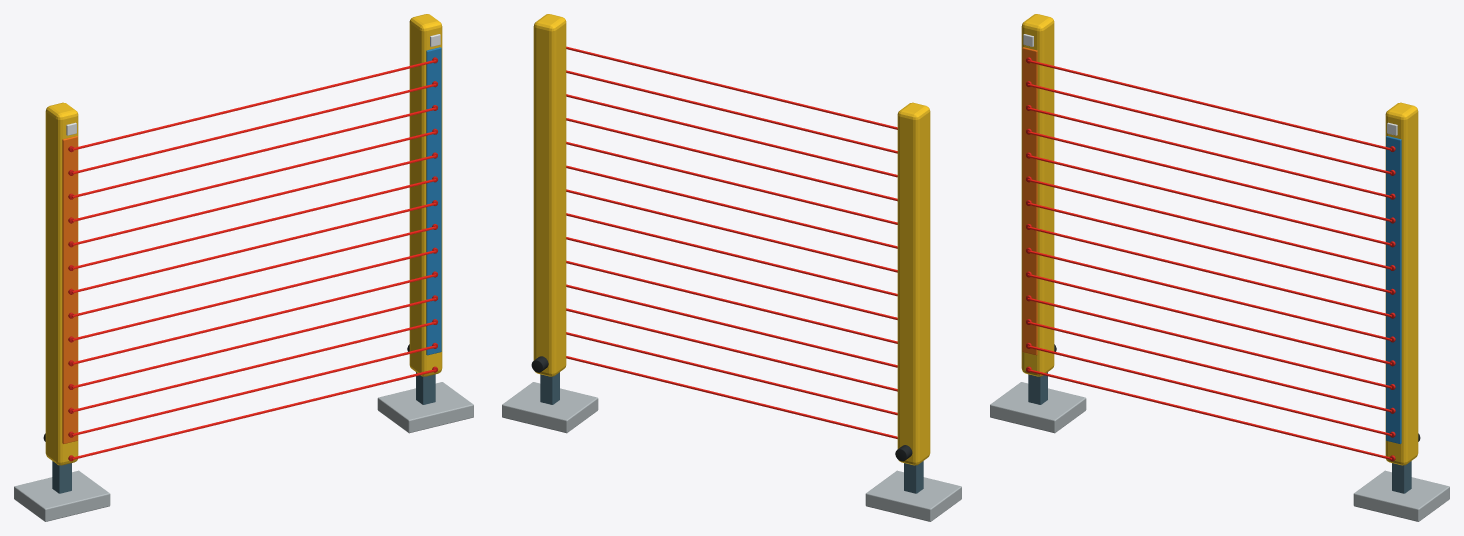
Rendered from safety_light_curtain_pair.glb.
The picture shows the model from 3 angles, left to right: view 1: azimuth 30°, elevation 25°; view 2: azimuth 150°, elevation 25°; view 3: azimuth 330°, elevation 25°; orthographic projection.
Visible parts, largest first — view 1: LIGHT_CURTAIN_TX, LIGHT_CURTAIN_RX, OPTIC_WINDOW_TX, OPTIC_WINDOW_RX, FOOT_RX, FOOT_TX, BEAM_3, BEAM_8, BEAM_12, BEAM_13, BEAM_0, BEAM_4 (+10 smaller); view 2: LIGHT_CURTAIN_RX, LIGHT_CURTAIN_TX, FOOT_RX, FOOT_TX, BEAM_4, BEAM_10, BEAM_11, BEAM_2, BEAM_5, BEAM_6, BEAM_7, BEAM_9 (+8 smaller); view 3: LIGHT_CURTAIN_RX, LIGHT_CURTAIN_TX, OPTIC_WINDOW_RX, OPTIC_WINDOW_TX, FOOT_TX, FOOT_RX, BEAM_3, BEAM_8, BEAM_12, BEAM_13, BEAM_0, BEAM_4 (+10 smaller).
Part boxes in pixels (box(x1,y1,x2,y2)): LIGHT_CURTAIN_TX: box(45, 102, 78, 465); LIGHT_CURTAIN_RX: box(409, 14, 442, 376); OPTIC_WINDOW_TX: box(62, 136, 77, 443); OPTIC_WINDOW_RX: box(426, 47, 441, 355); FOOT_RX: box(377, 382, 473, 433); FOOT_TX: box(14, 470, 110, 521); BEAM_3: box(72, 298, 436, 388); BEAM_8: box(72, 179, 436, 269); BEAM_12: box(72, 84, 436, 174); BEAM_13: box(72, 60, 436, 150); BEAM_0: box(72, 369, 436, 459); BEAM_4: box(72, 274, 436, 364); LIGHT_CURTAIN_RX: box(533, 14, 566, 376); LIGHT_CURTAIN_TX: box(897, 102, 930, 465); FOOT_RX: box(502, 382, 598, 433); FOOT_TX: box(865, 470, 961, 521); BEAM_4: box(566, 260, 897, 343); BEAM_10: box(566, 118, 897, 201); BEAM_11: box(566, 94, 897, 177); BEAM_2: box(566, 308, 897, 391); BEAM_5: box(566, 237, 897, 319); BEAM_6: box(566, 213, 897, 296); BEAM_7: box(566, 189, 897, 272); BEAM_9: box(566, 141, 897, 224); LIGHT_CURTAIN_RX: box(1385, 102, 1418, 465); LIGHT_CURTAIN_TX: box(1021, 14, 1054, 376); OPTIC_WINDOW_RX: box(1386, 136, 1401, 443); OPTIC_WINDOW_TX: box(1022, 47, 1037, 355); FOOT_TX: box(990, 382, 1086, 433); FOOT_RX: box(1353, 470, 1449, 521); BEAM_3: box(1027, 298, 1391, 388); BEAM_8: box(1027, 179, 1391, 269); BEAM_12: box(1027, 84, 1391, 174); BEAM_13: box(1027, 60, 1391, 150); BEAM_0: box(1027, 369, 1391, 459); BEAM_4: box(1027, 274, 1391, 364).
Bounding box in the file's own units: 2.36 × 2.07 × 0.3.
